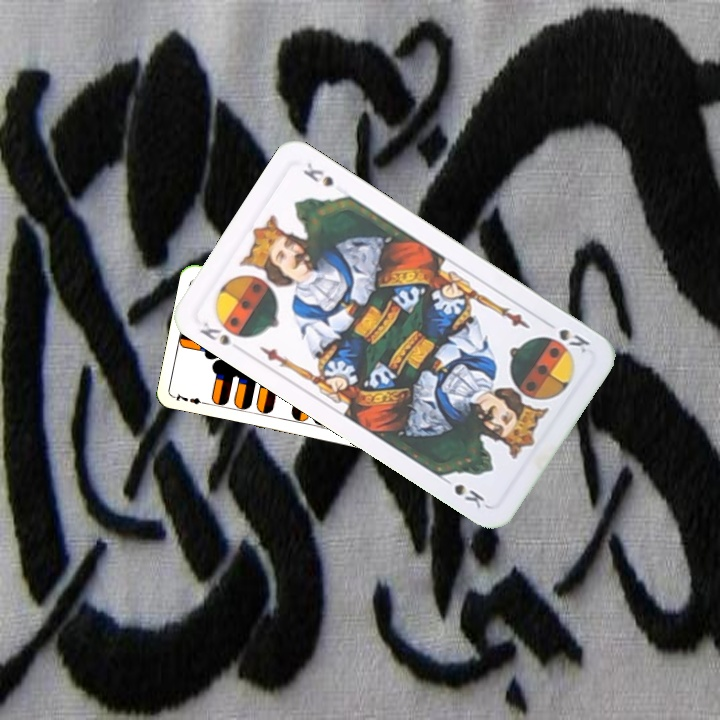E7: (171, 390, 211, 407)
SK: (540, 325, 593, 356), (196, 318, 232, 349)
